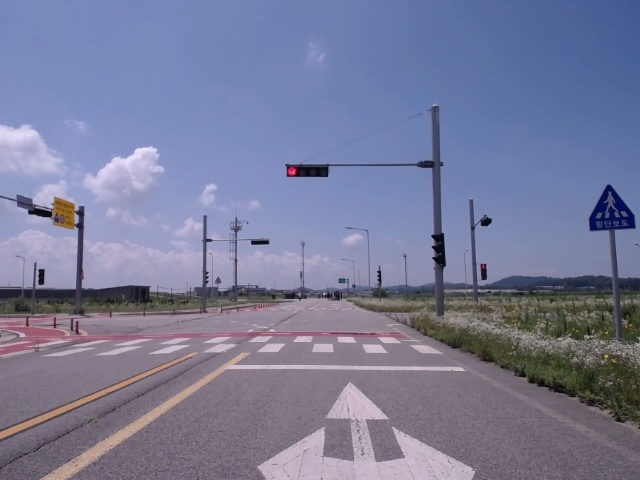red_4: (287, 166, 329, 177)
